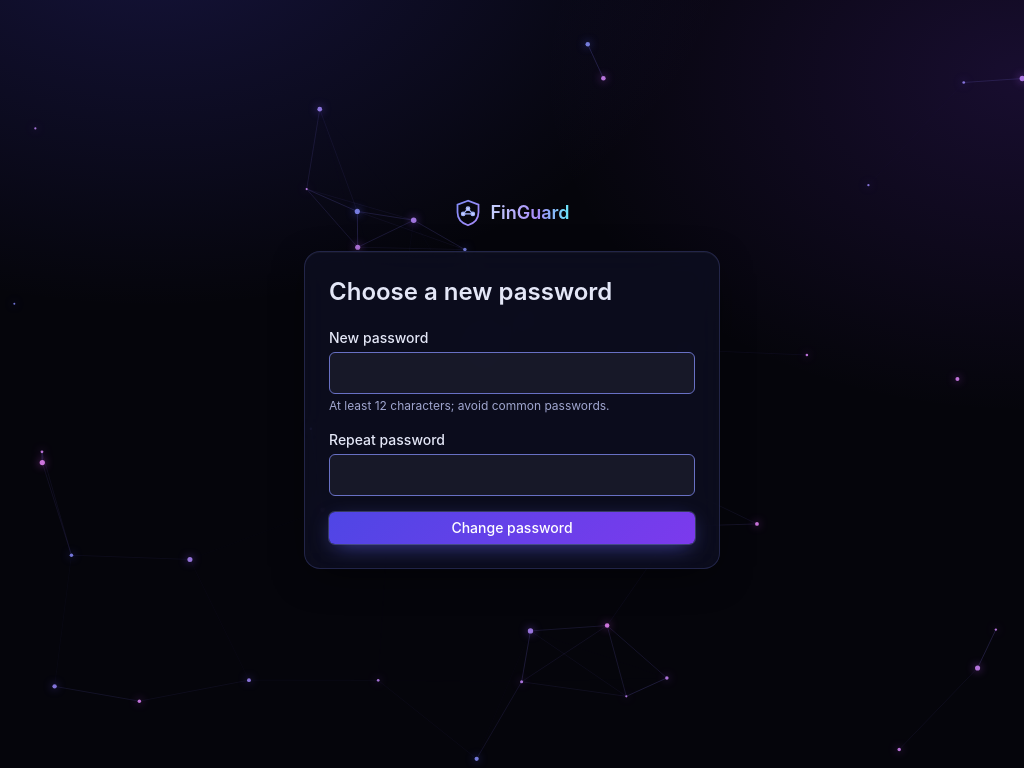
Test: ForgotPasswordPage and ResetPasswordPage › sets a new password from the link and sends the uid and token
Step 1. Type "Brand-New-Passphrase-42" into the password field labelled "New password" → (512, 373), box [329,352,695,394]
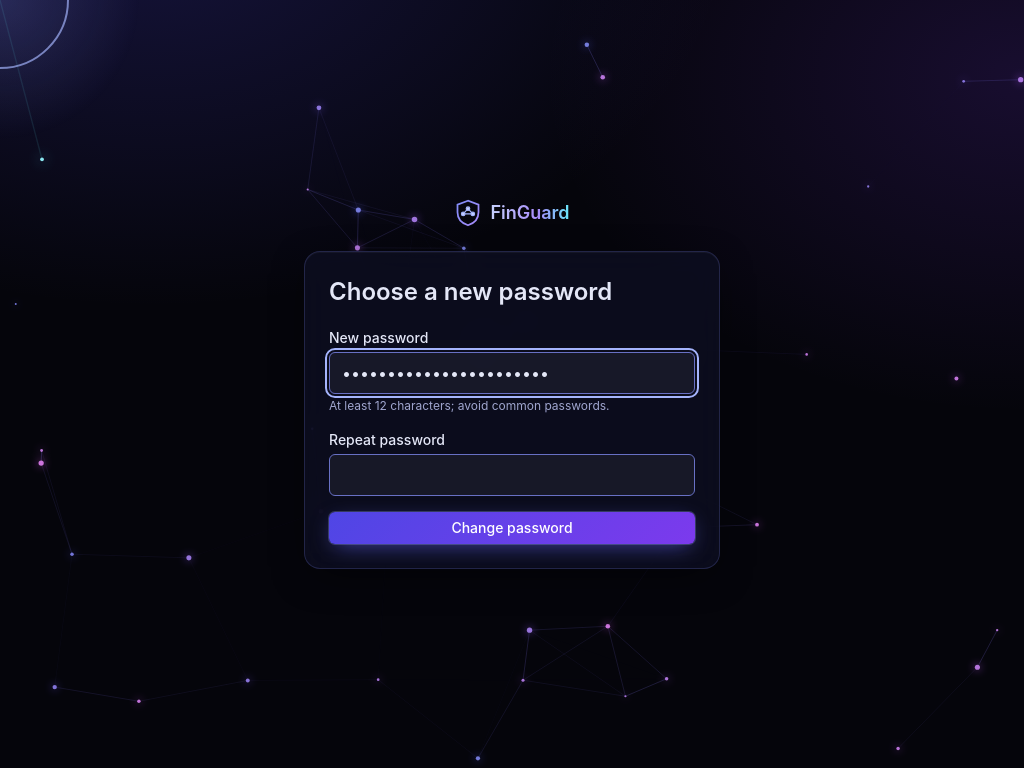
Step 2. Type "Brand-New-Passphrase-42" into the password field labelled "Repeat password" → (512, 475), box [329,454,695,496]
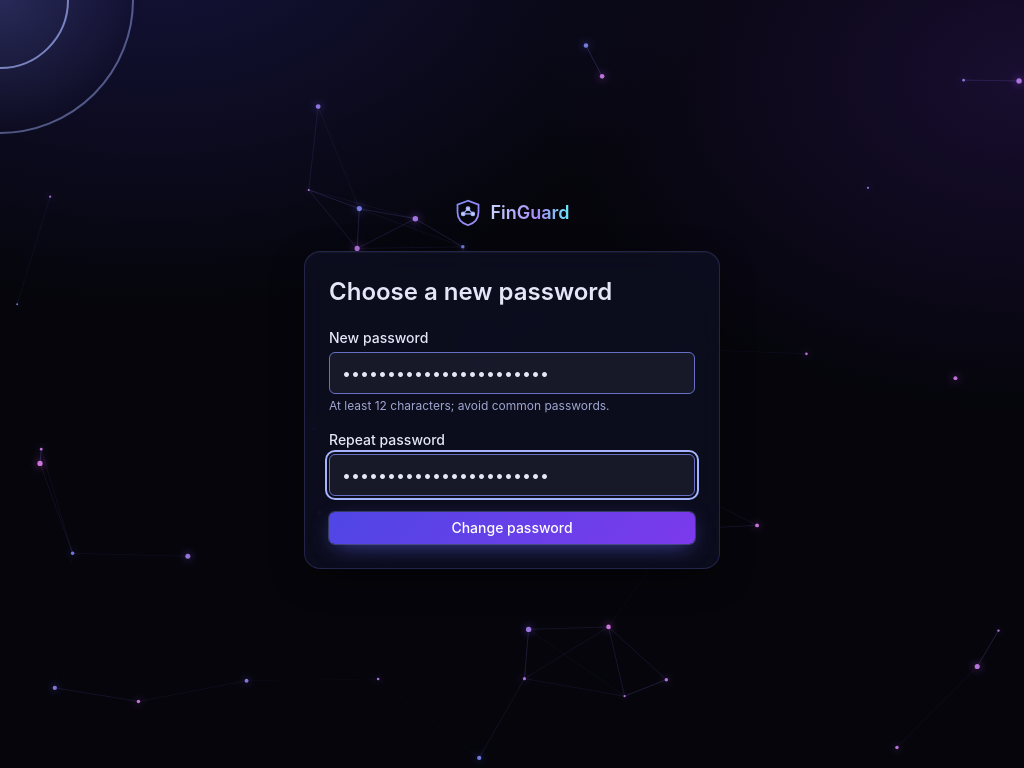
Step 3. Click the button "Change password" → click(512, 528), box [329,512,695,544]
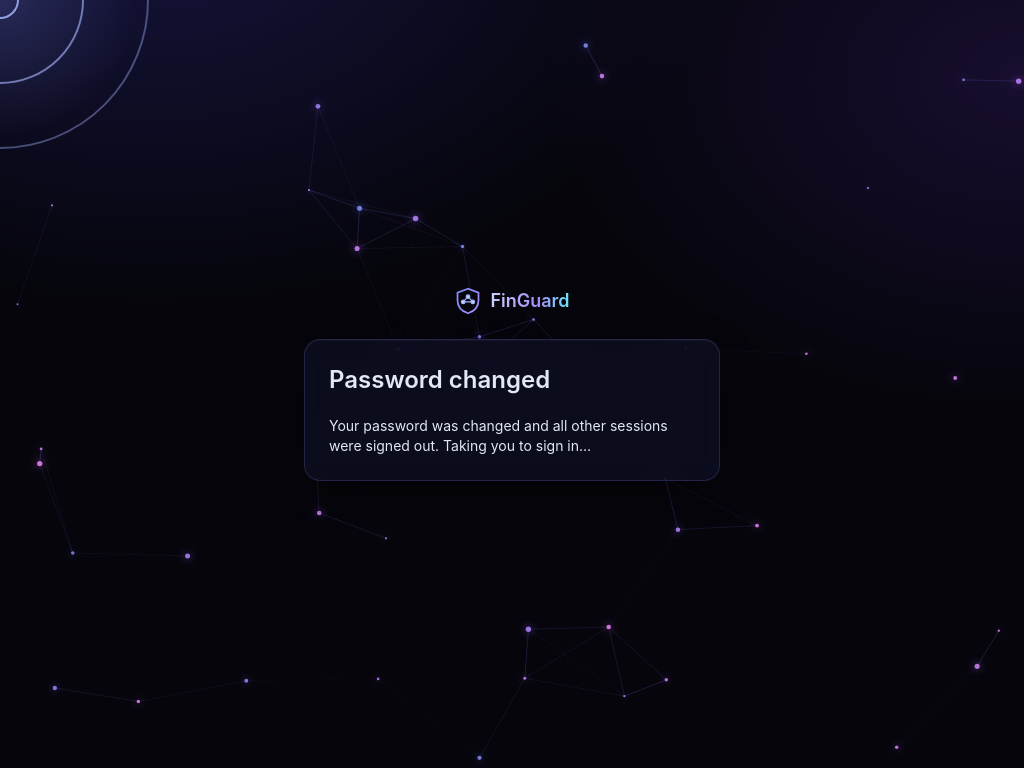
Expected: the text "Your password was changed" is shown, [329,417,668,454]
